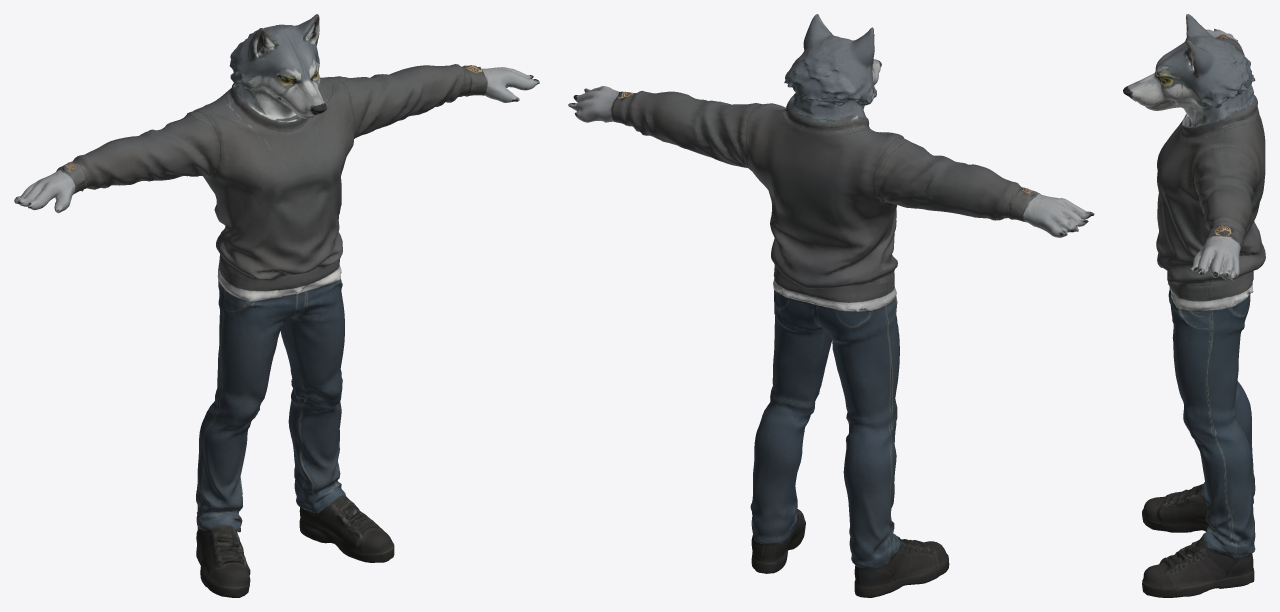
File: 10_Wolf.fbx
3 views of the same model, side by side, from view 1: azimuth 30°, elevation 25°; view 2: azimuth 150°, elevation 25°; view 3: azimuth 270°, elevation 25° (orthographic). The views are drawn at different scales.
Parts seen in each view (by area): view 1: texture_mapping; view 2: texture_mapping; view 3: texture_mapping.
Part boxes in pixels (<box>): texture_mapping: <box>14,14,539,597</box>; texture_mapping: <box>568,14,1094,597</box>; texture_mapping: <box>1123,14,1265,597</box>.
Size of the model in its own units: 0.9927 by 0.9987 by 0.2439.
Materials: 1 (1 with a texture image).
